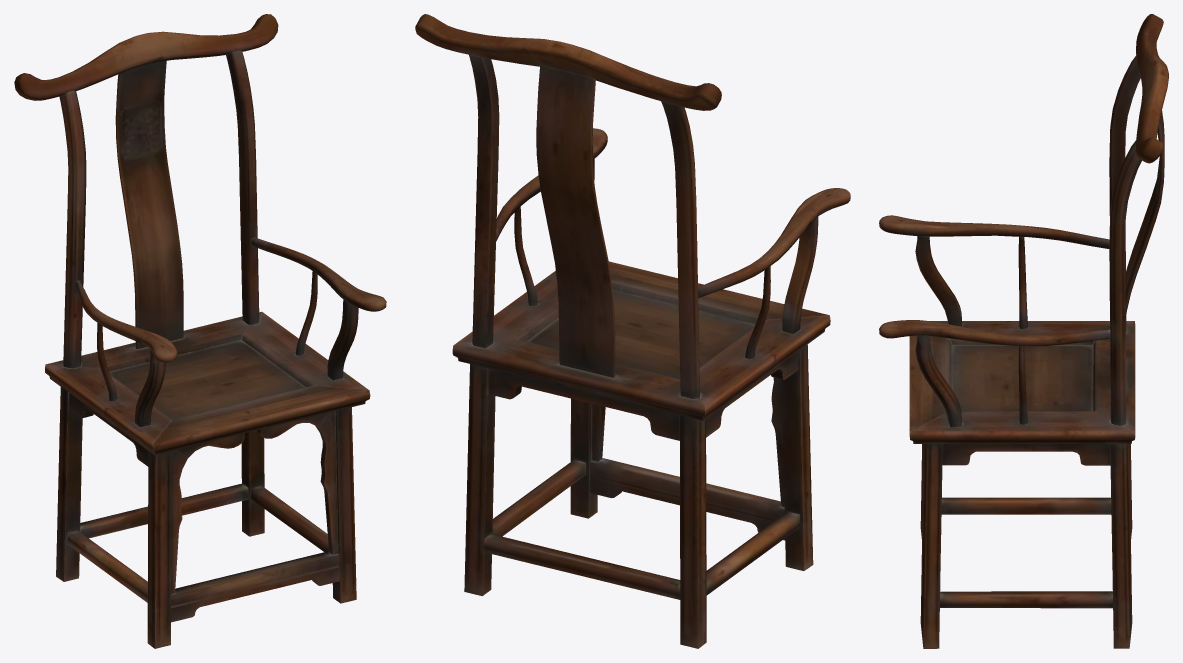
The model's file is chinese_armchair.glb.
3 renders of one model, left to right at view 1: azimuth 30°, elevation 25°; view 2: azimuth 150°, elevation 25°; view 3: azimuth 270°, elevation 25°, orthographic. The views are drawn at different scales.
Visible parts, largest first — view 1: chinese_armchair; view 2: chinese_armchair; view 3: chinese_armchair.
Boxes of the visible parts, x1=… form: chinese_armchair: x1=14, y1=14, x2=386, y2=648; chinese_armchair: x1=415, y1=14, x2=850, y2=648; chinese_armchair: x1=879, y1=14, x2=1168, y2=648.
Size of the model in its own units: 0.8483 by 1.59 by 0.7886.
1 material, 1 textured.
